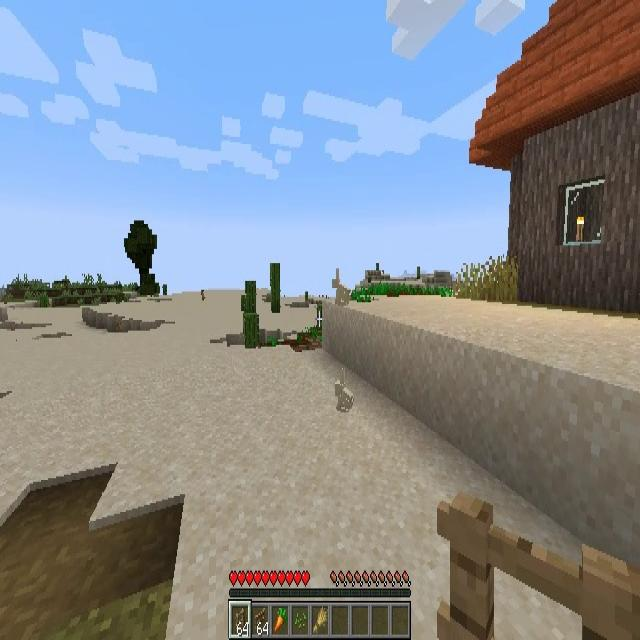rabbit: (334, 371, 355, 414), (332, 269, 350, 304)
